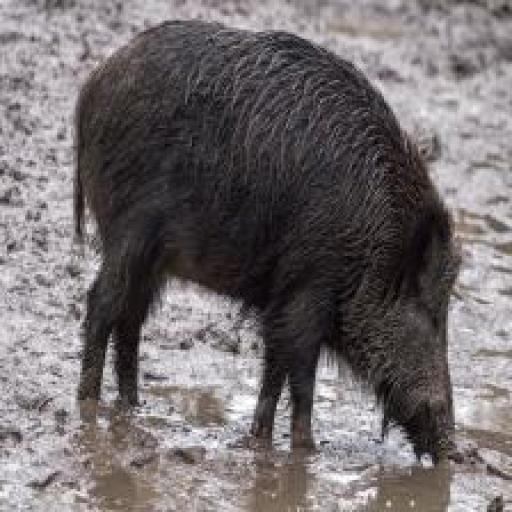Pig: (62, 7, 473, 488)
